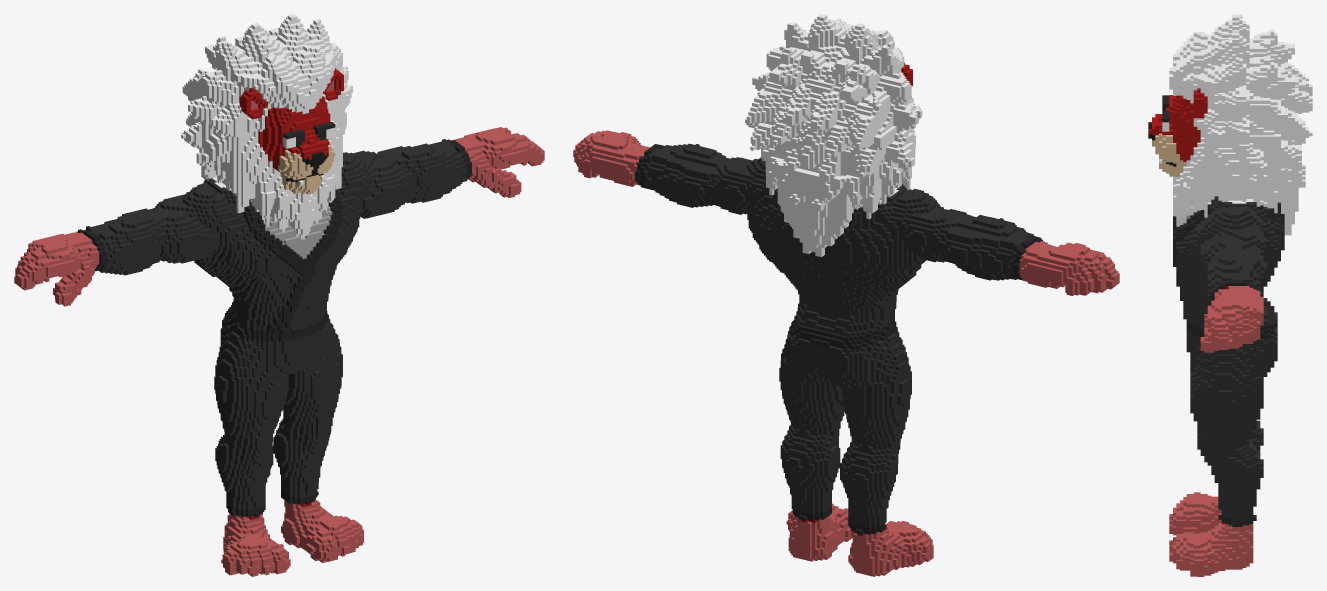
3 renders of one model, left to right at view 1: azimuth 30°, elevation 25°; view 2: azimuth 150°, elevation 25°; view 3: azimuth 270°, elevation 25°, orthographic. The views are drawn at different scales.
Parts seen in each view (by area): view 1: standard; view 2: standard; view 3: standard.
Part boxes in pixels (x1,y1,x2,y2): standard: (14,14,544,576); standard: (573,14,1119,576); standard: (1148,14,1312,576).
Size of the model in its own units: 17.2 by 16.5 by 4.7.
5 materials, 5 textured.
